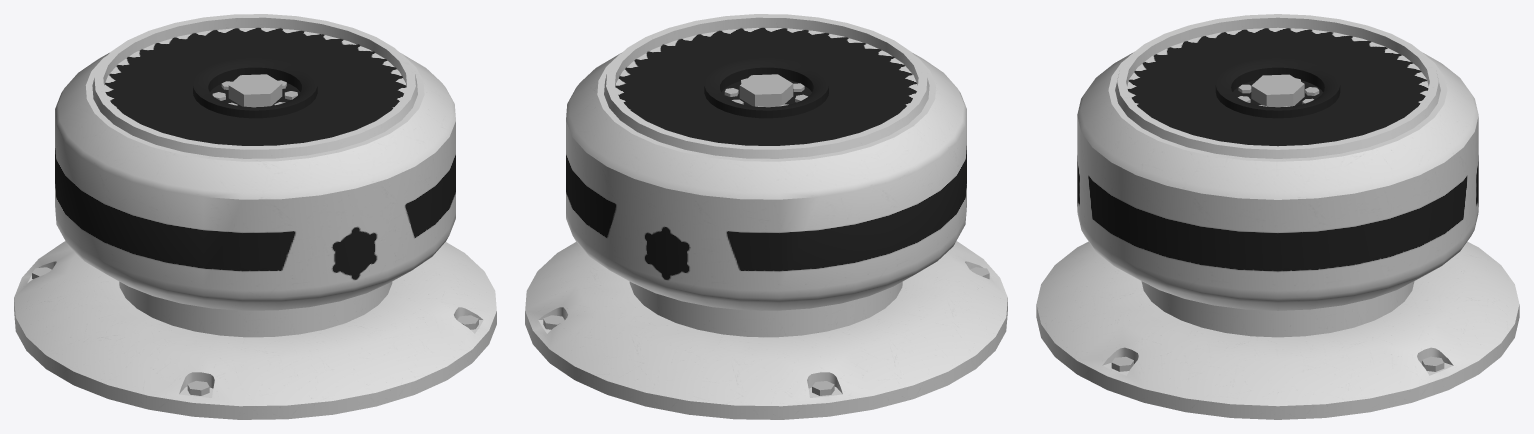
Rendered from turbina.fbx.
The picture shows the model from 3 angles, left to right: view 1: azimuth 30°, elevation 25°; view 2: azimuth 150°, elevation 25°; view 3: azimuth 270°, elevation 25°; orthographic projection.
Parts seen in each view (by area): view 1: turbina; view 2: turbina; view 3: turbina.
Boxes of the visible parts, box(x1,y1,x2,y2) form: turbina: box(14, 14, 496, 419); turbina: box(525, 14, 1007, 419); turbina: box(1036, 14, 1519, 419).
Size of the model in its own units: 100 by 54.13 by 100.
Materials: 1 (1 with a texture image).
